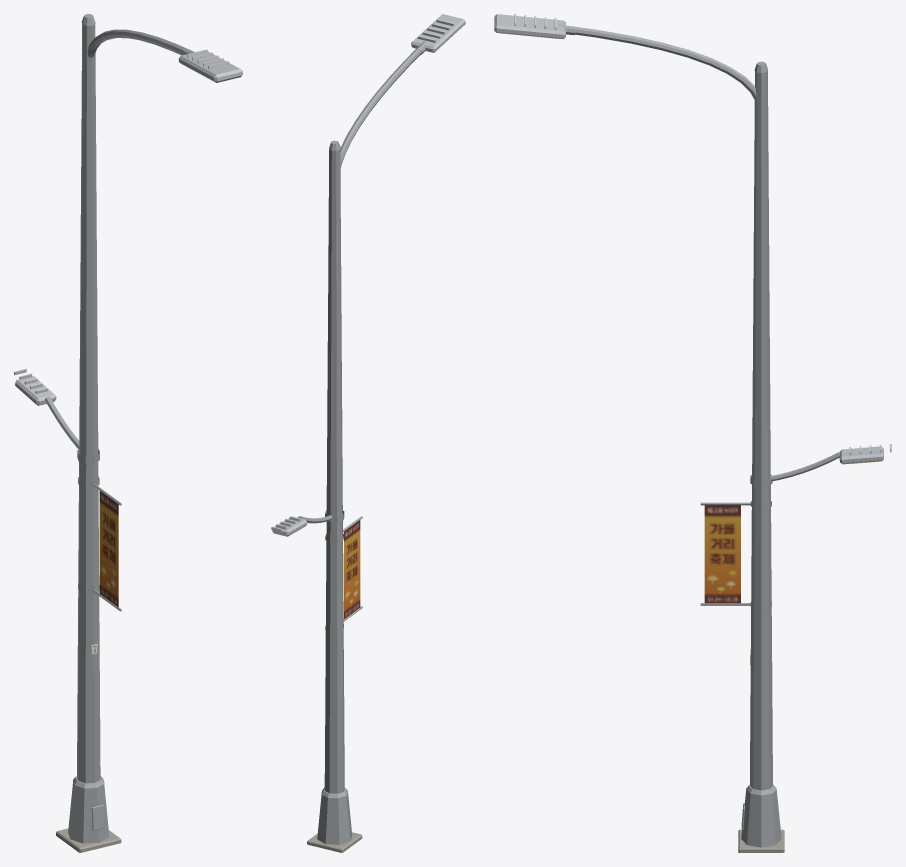
The model's file is SC_Str_Streetlight_Road_Double.gltf.
The picture shows the model from 3 angles, left to right: view 1: azimuth 30°, elevation 25°; view 2: azimuth 150°, elevation 25°; view 3: azimuth 270°, elevation 25°; orthographic projection. The views are drawn at different scales.
Parts seen in each view (by area): view 1: SC_Str_Streetlight_Road_Double; view 2: SC_Str_Streetlight_Road_Double; view 3: SC_Str_Streetlight_Road_Double.
Part boxes in pixels (left/top/right/bottom): SC_Str_Streetlight_Road_Double: left=14, top=14, right=242, bottom=852; SC_Str_Streetlight_Road_Double: left=271, top=14, right=465, bottom=852; SC_Str_Streetlight_Road_Double: left=494, top=14, right=891, bottom=852.
Size of the model in its own units: 0.5 by 9.87 by 4.31.
3 materials, 3 textured.
